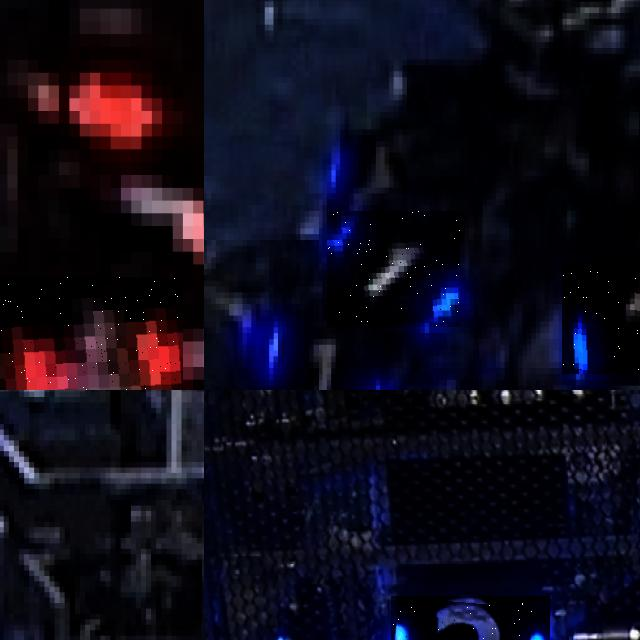B1: (327, 211, 460, 327), (260, 315, 384, 390), (562, 263, 640, 373)
B2: (391, 596, 549, 640)
R4: (0, 277, 182, 390)
